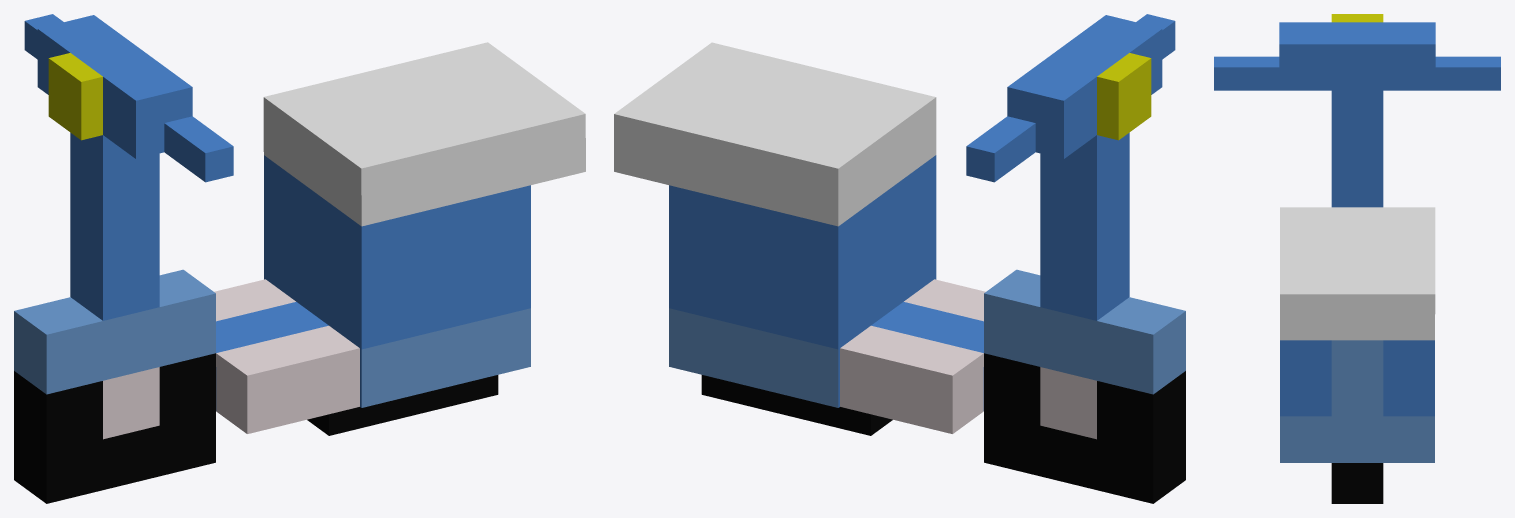
Rendered from Moped.fbx.
The picture shows the model from 3 angles, left to right: view 1: azimuth 30°, elevation 25°; view 2: azimuth 150°, elevation 25°; view 3: azimuth 270°, elevation 25°; orthographic projection. The views are drawn at different scales.
Visible parts, largest first — view 1: Moped; view 2: Moped; view 3: Moped.
Boxes of the visible parts, box(x1,y1,x2,y2) form: Moped: box(14, 14, 585, 503); Moped: box(614, 14, 1185, 503); Moped: box(1214, 14, 1500, 503).
Bounding box in the file's own units: 6.73 × 5.26 × 4.16.
